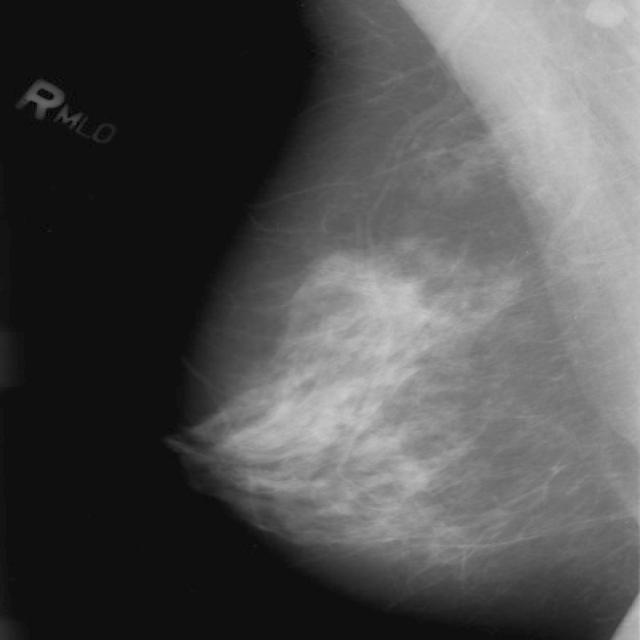tumour: (364, 277, 422, 323)
